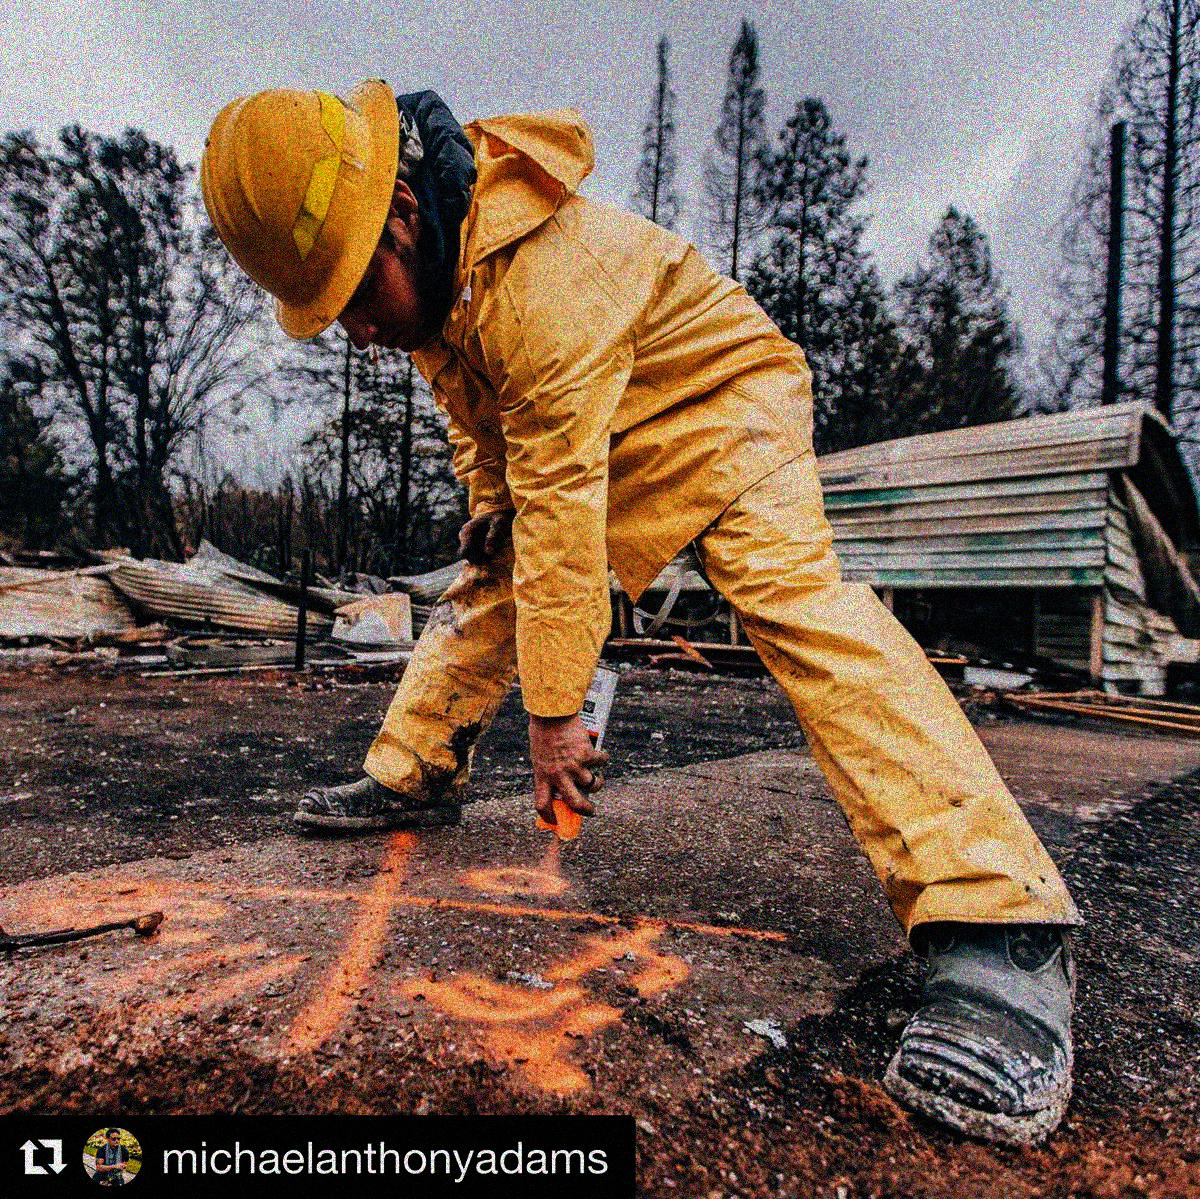helmet: (193, 72, 455, 354)
